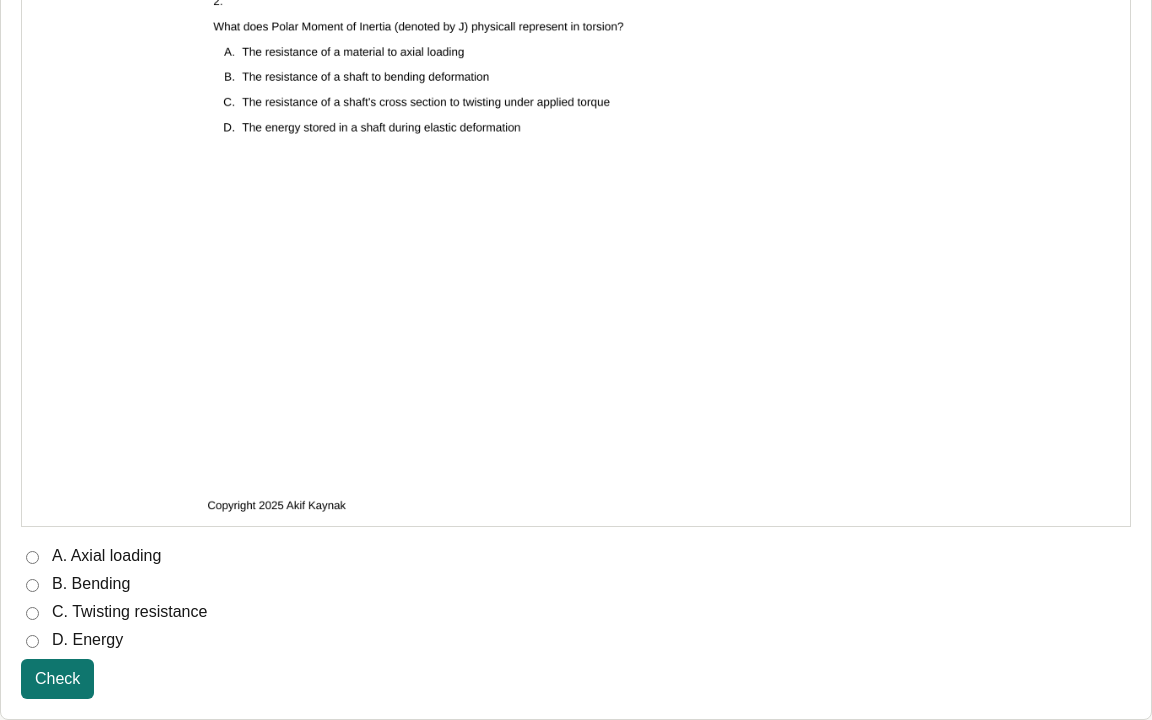
Test: PracticeQuestion › does not show AI explanation in exam mode
(page scrolled)
Click the radio button labelled "B. Bending" at (32,586), box [26,579,39,592]
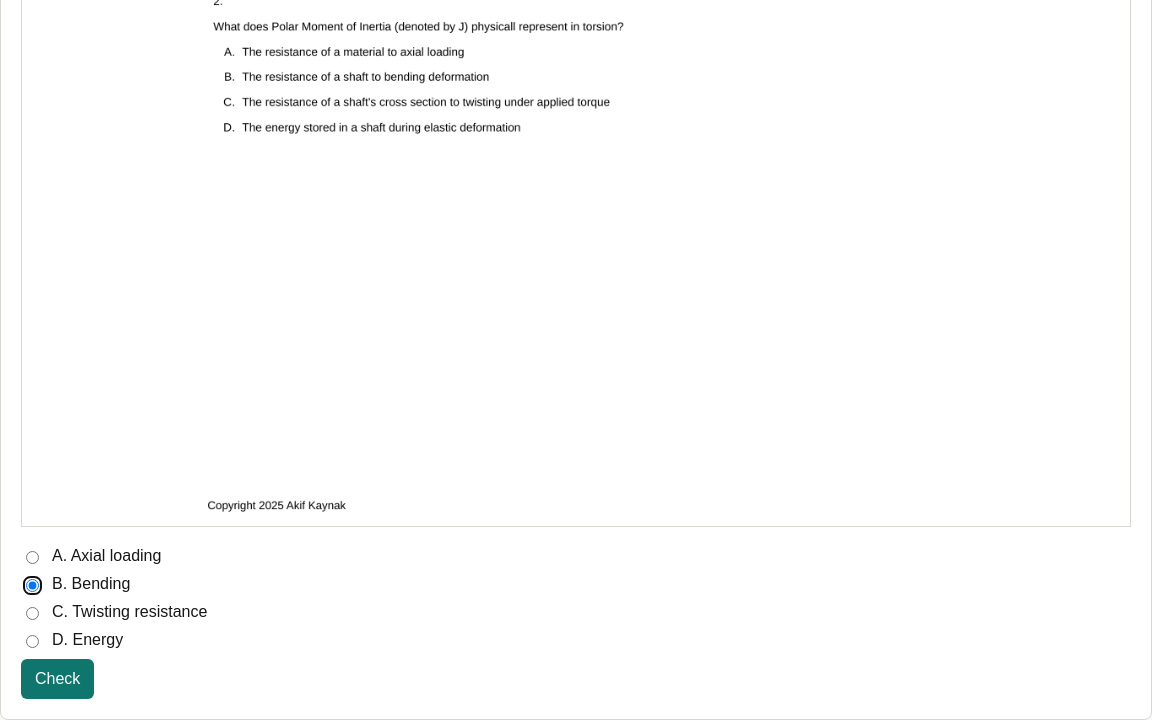
Click the button "Check" at (58,679), box [21,659,94,699]
(page scrolled)
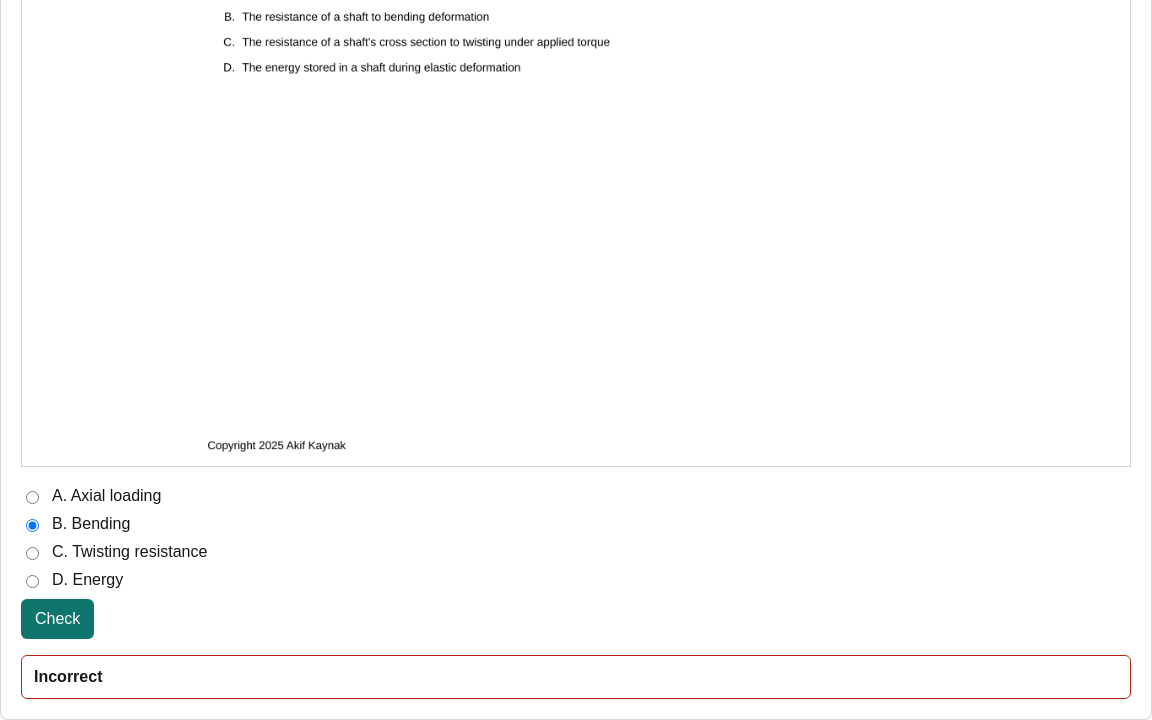
Expected: the text "Incorrect" is shown, [34,668,102,685]
